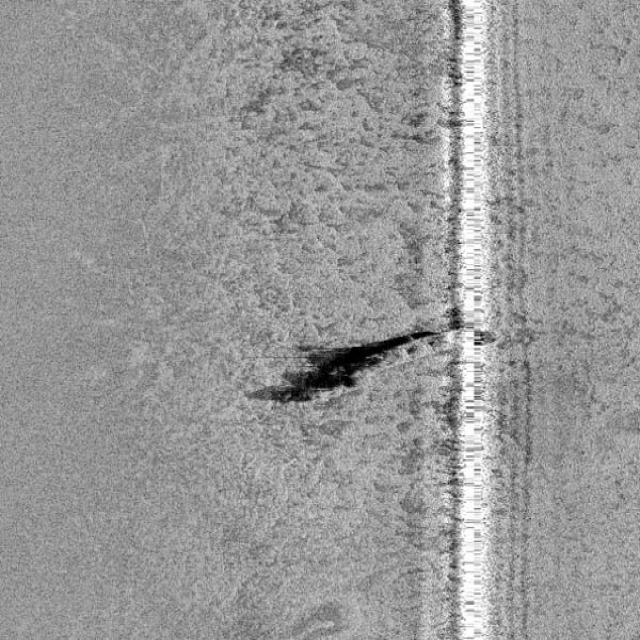shipwreck: (271, 318, 461, 399)
